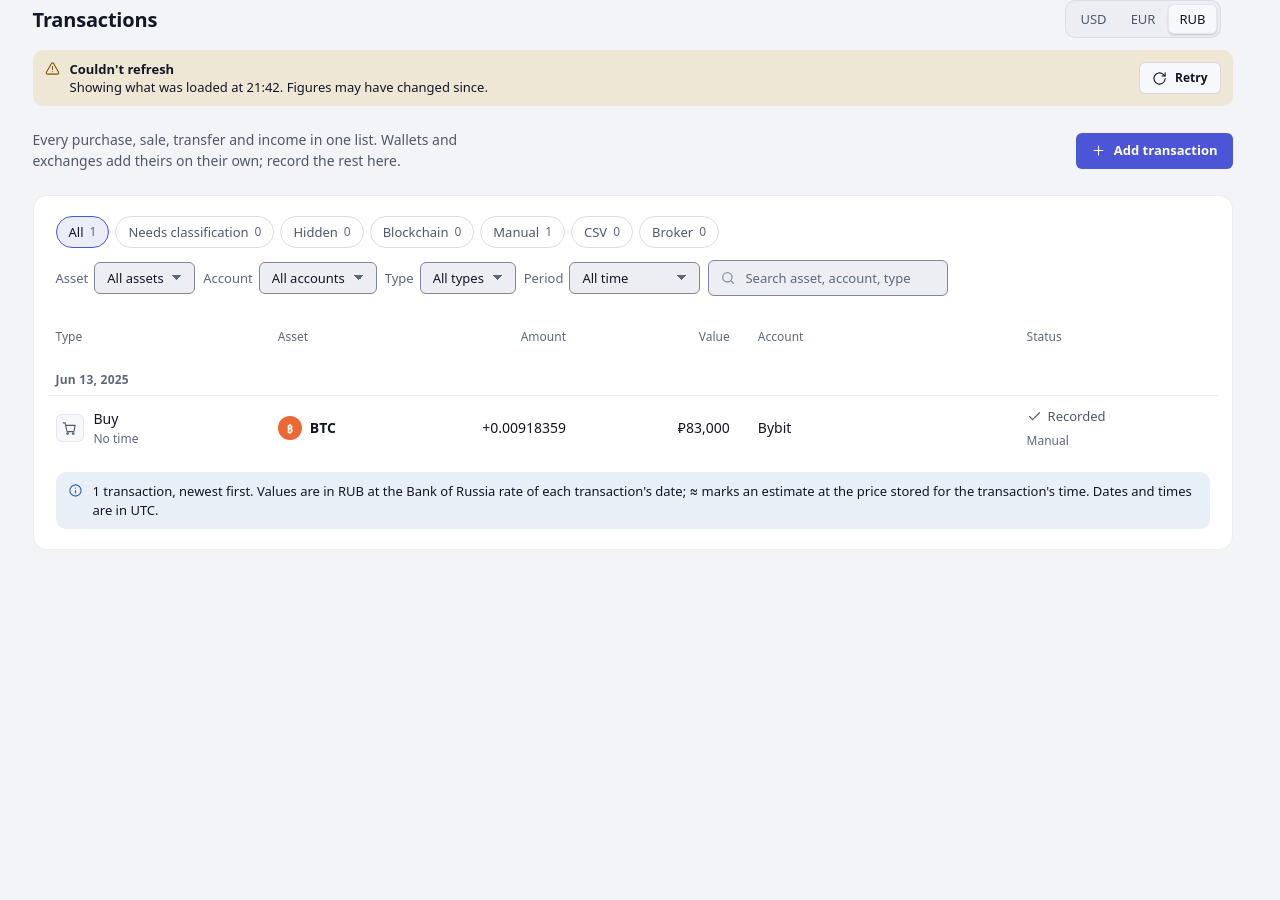
Scenario: TransactionsPage (list-all-operations) › RUB-FEE rounds converted fees up and keeps native fees exact: native=true
Click the button "Buy" at (106, 419), box [94,409,118,430]
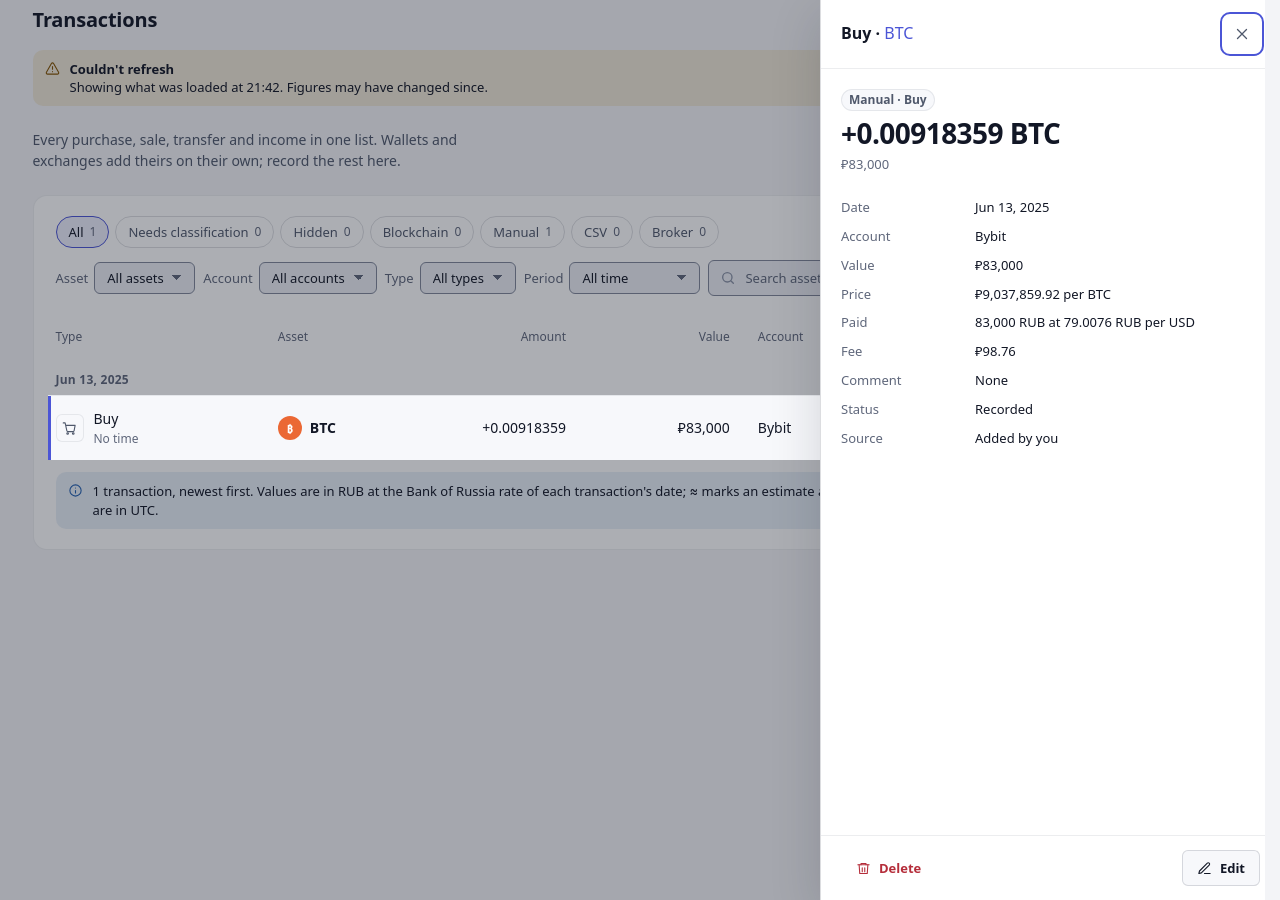
Expected: the text "₽98.76" is shown, [975,342,1016,360]
